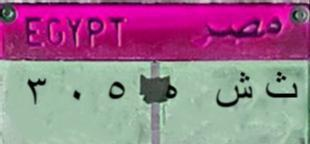0: (65, 79, 87, 108)
3: (22, 71, 52, 109)
5: (102, 76, 130, 108)
haa: (161, 83, 183, 102)
sheen: (210, 69, 255, 112)
thaa: (263, 71, 302, 106)
